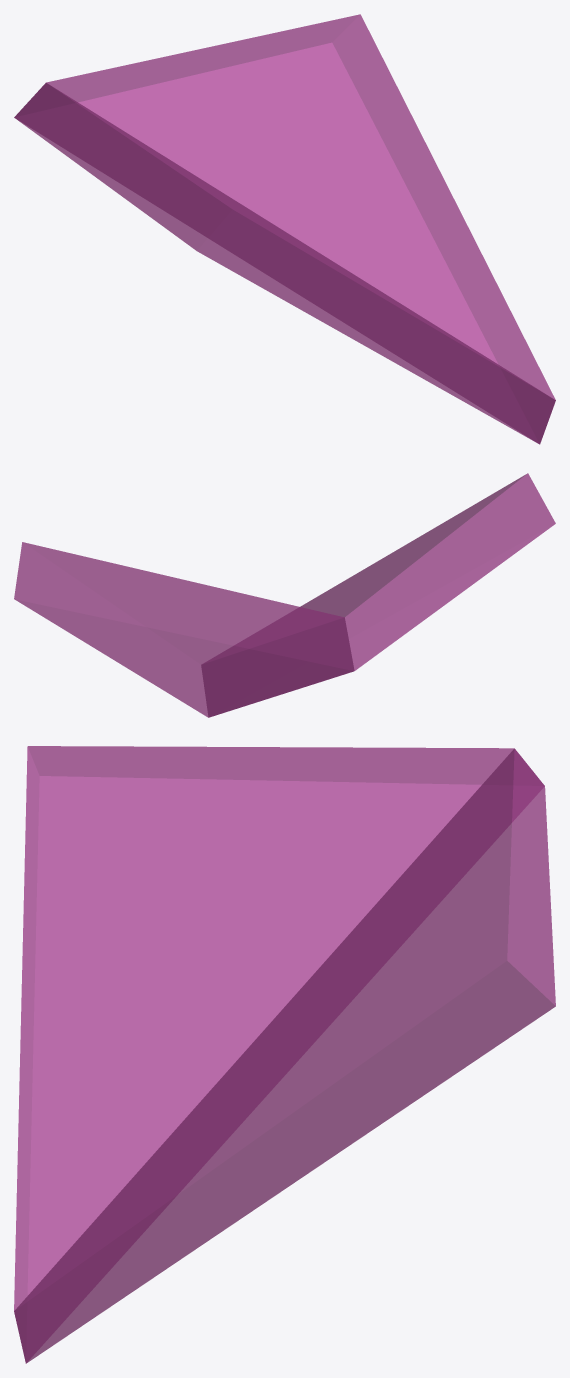
File: SM_Bld_Roof_Corner_02_Collision_01.fbx
3 views of the same model, one above another, from view 1: azimuth 30°, elevation 25°; view 2: azimuth 150°, elevation 25°; view 3: azimuth 270°, elevation 25° (orthographic). The views are drawn at different scales.
Parts seen in each view (by area): view 1: SM_Bld_Roof_Corner_02_Collision_01; view 2: SM_Bld_Roof_Corner_02_Collision_01; view 3: SM_Bld_Roof_Corner_02_Collision_01.
Part boxes in pixels (left/top/right/bottom): SM_Bld_Roof_Corner_02_Collision_01: left=14, top=14, right=555, bottom=444; SM_Bld_Roof_Corner_02_Collision_01: left=14, top=473, right=555, bottom=717; SM_Bld_Roof_Corner_02_Collision_01: left=14, top=746, right=555, bottom=1363.
Bounding box in the file's own units: 284 × 240 × 283.
